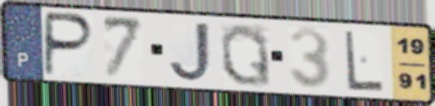3: (287, 24, 332, 92)
7: (101, 14, 145, 82)
J: (167, 20, 214, 83)
L: (342, 28, 386, 93)
P: (42, 10, 97, 79)
Q: (217, 21, 274, 88)
